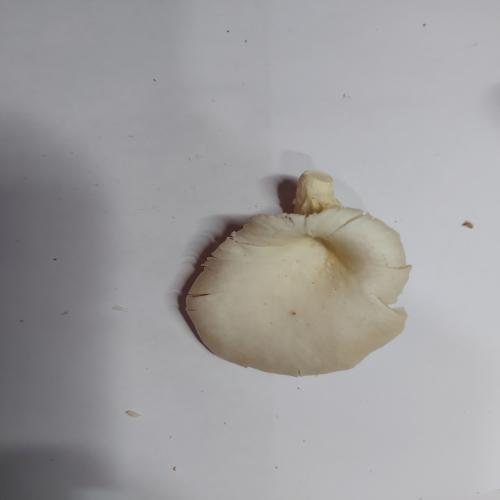Oyster Mushroom: (183, 170, 413, 378)
